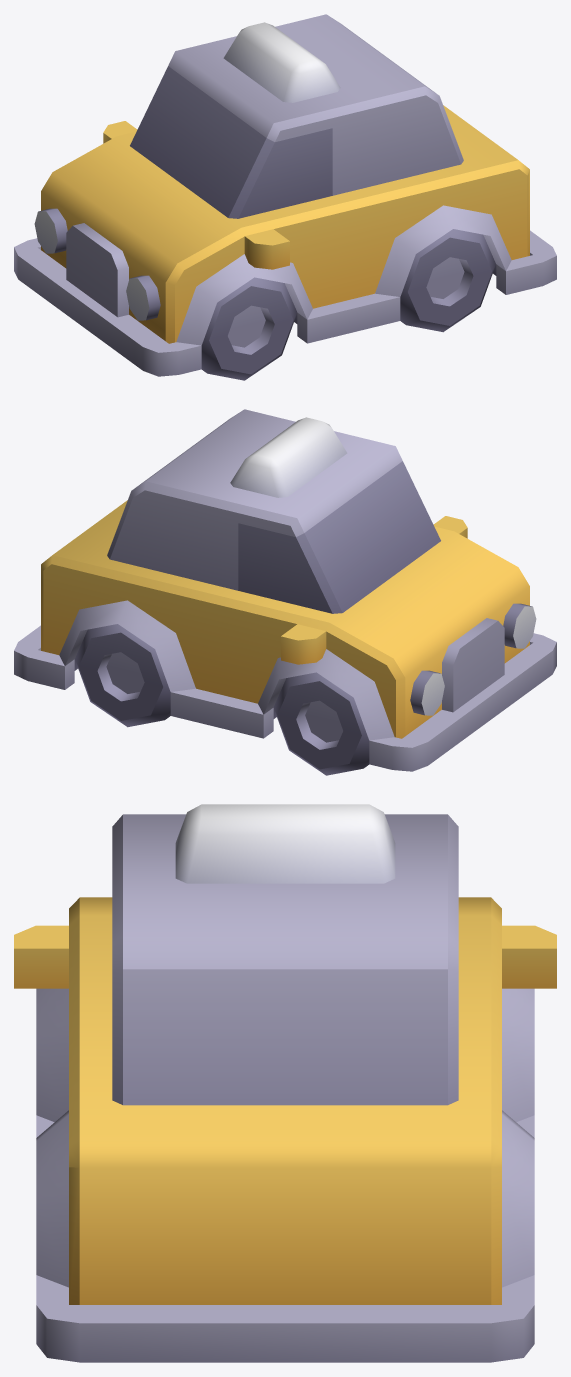
Rendered from vehicle.fbx.
3 views of the same model, one above another, from view 1: azimuth 30°, elevation 25°; view 2: azimuth 150°, elevation 25°; view 3: azimuth 270°, elevation 25° (orthographic). The views are drawn at different scales.
Visible parts, largest first — view 1: body, wheel-front-left, wheel-back-left; view 2: body, wheel-front-right, wheel-back-right; view 3: body.
Boxes of the visible parts, x1,y1,x2,y2 form: body: [14, 14, 556, 376]; wheel-front-left: [201, 277, 297, 380]; wheel-back-left: [400, 229, 495, 332]; body: [14, 409, 556, 771]; wheel-front-right: [273, 672, 369, 775]; wheel-back-right: [75, 624, 170, 727]; body: [14, 804, 556, 1362].
Size of the model in its own units: 142 by 87.7 by 99.
1 material, 1 textured.
